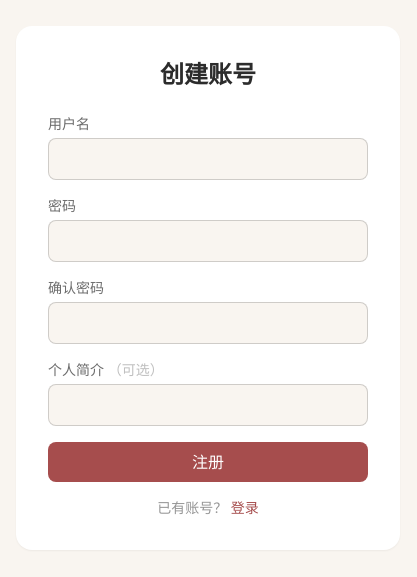
Test: RegisterPage › shows error when passwords do not match
The width and height of the screenshot is (417, 577).
Type "bob" into the field labelled "用户名" at point(208, 159), box [48,138,368,180]
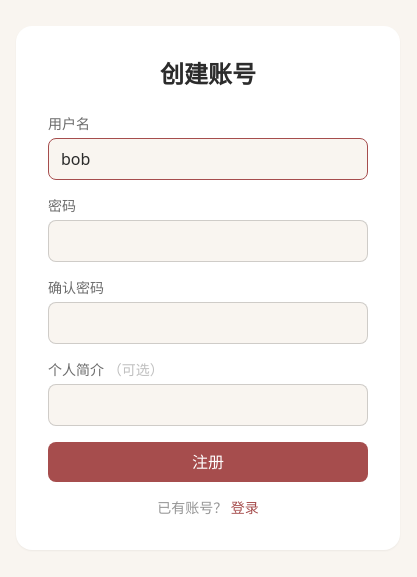
Type "abc123" into the password field labelled "密码" at point(208, 241), box [48,220,368,262]
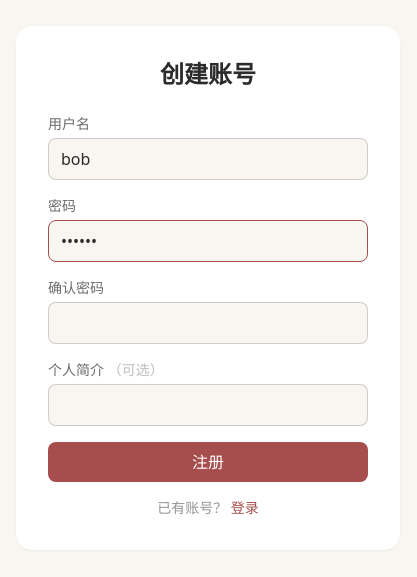
Type "abc456" into the password field labelled "确认密码" at point(208, 323), box [48,302,368,344]
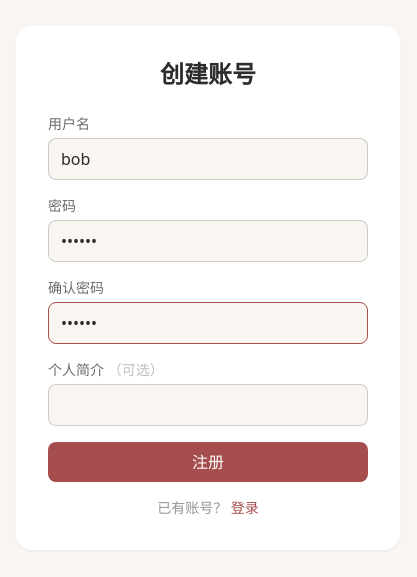
Click the button "注册" at point(208, 462), box [48,442,368,482]
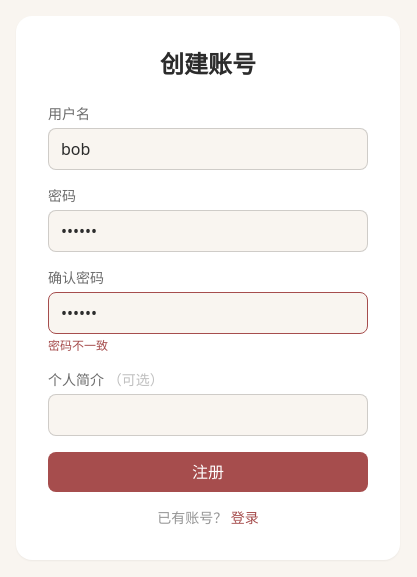
Expected: the text "密码不一致" is shown, [48,337,108,354]
